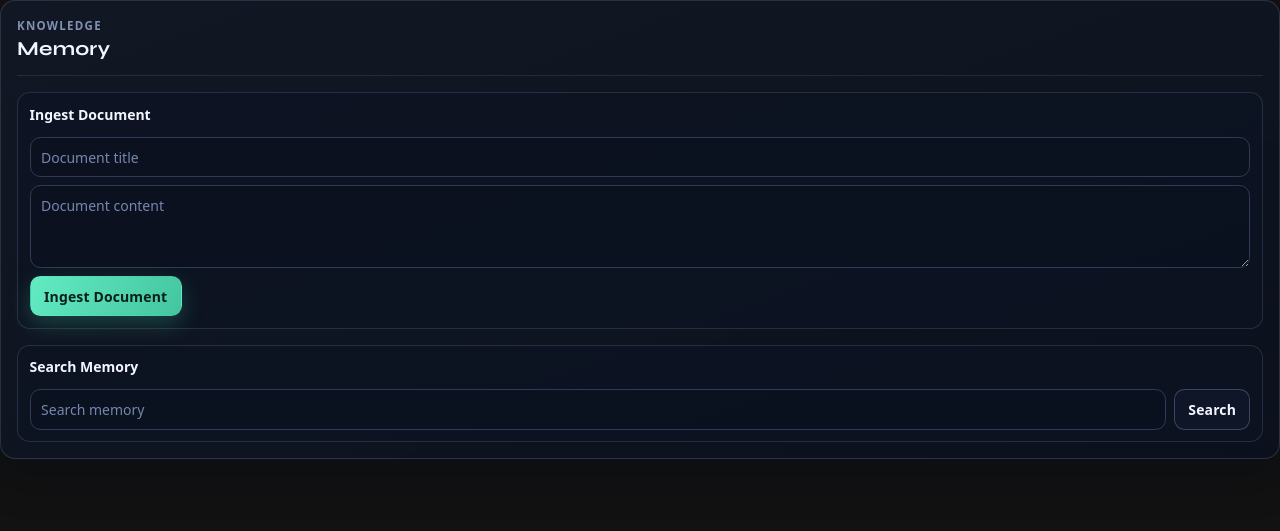
Test: MemoryPanel › shows search error messages
Type "agent" into the field with placeholder "Search memory" at (598, 410), box [30,389,1166,430]
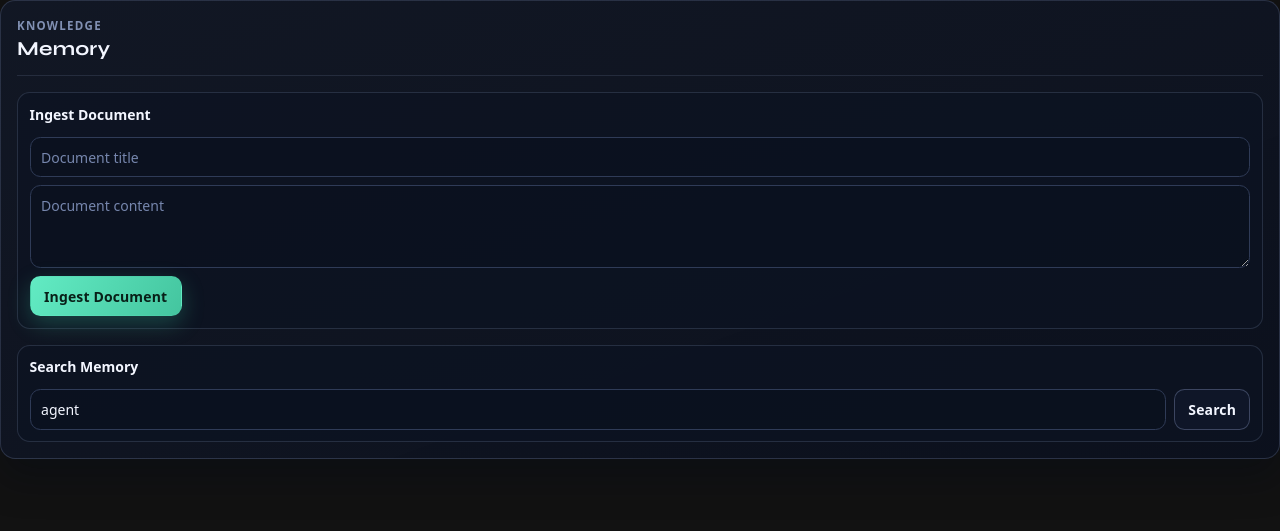
Click the button "Search" at (1212, 410), box [1174,389,1250,430]
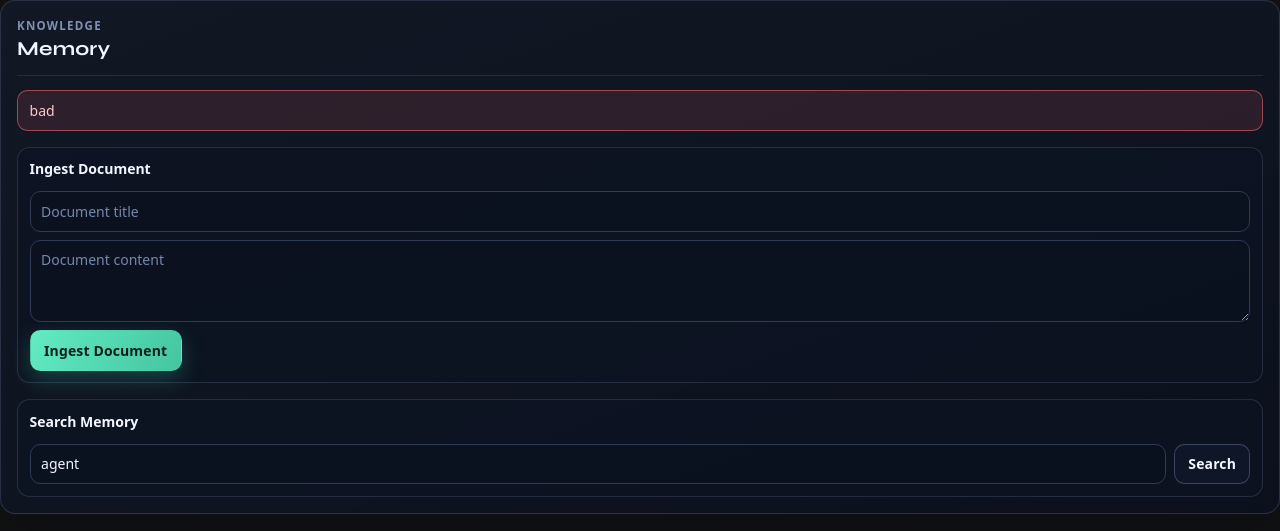
expect the text "bad" is shown: met, box [17,90,1263,131]
